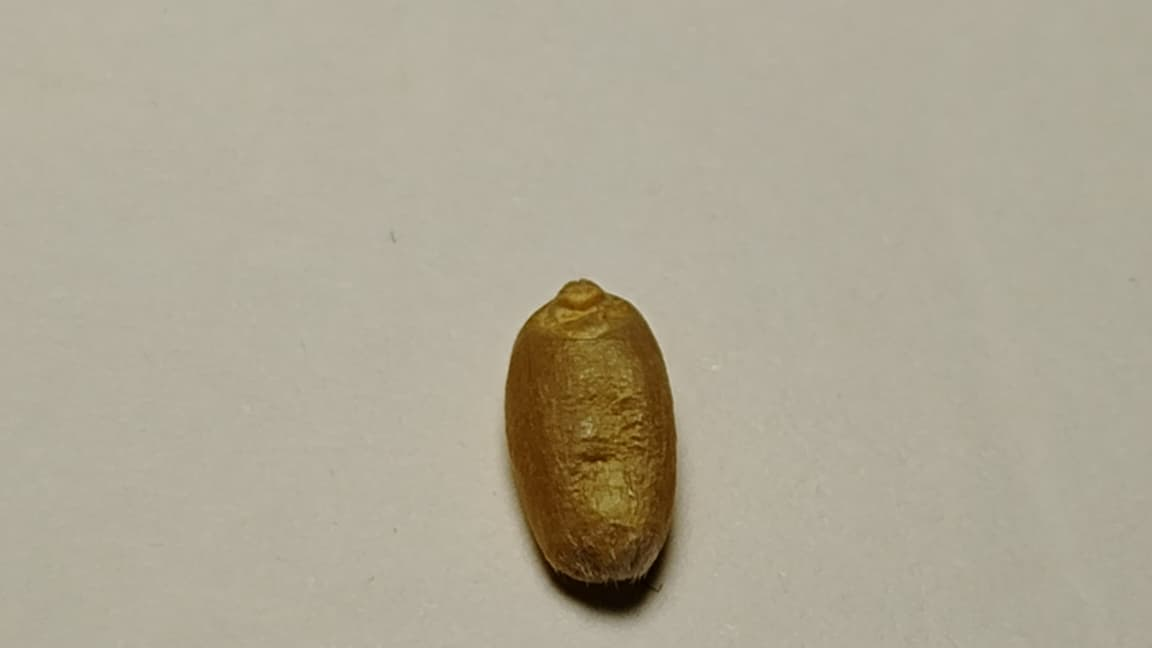healthy: (506, 281, 676, 581)
